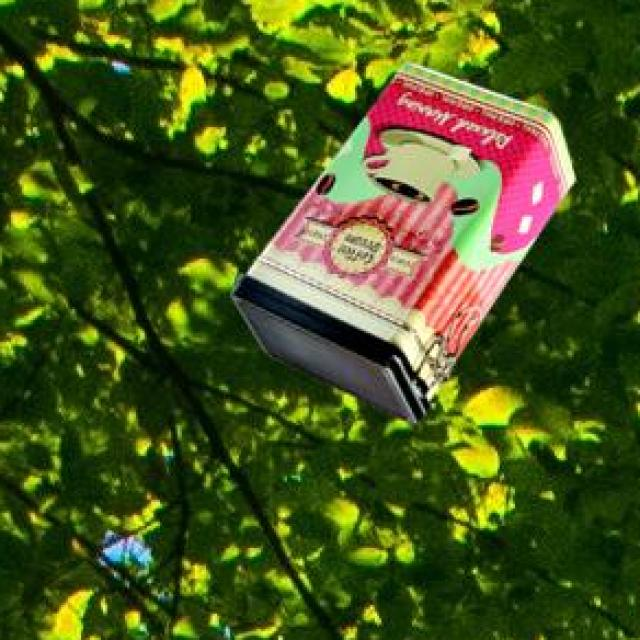logam: (233, 67, 578, 426)
